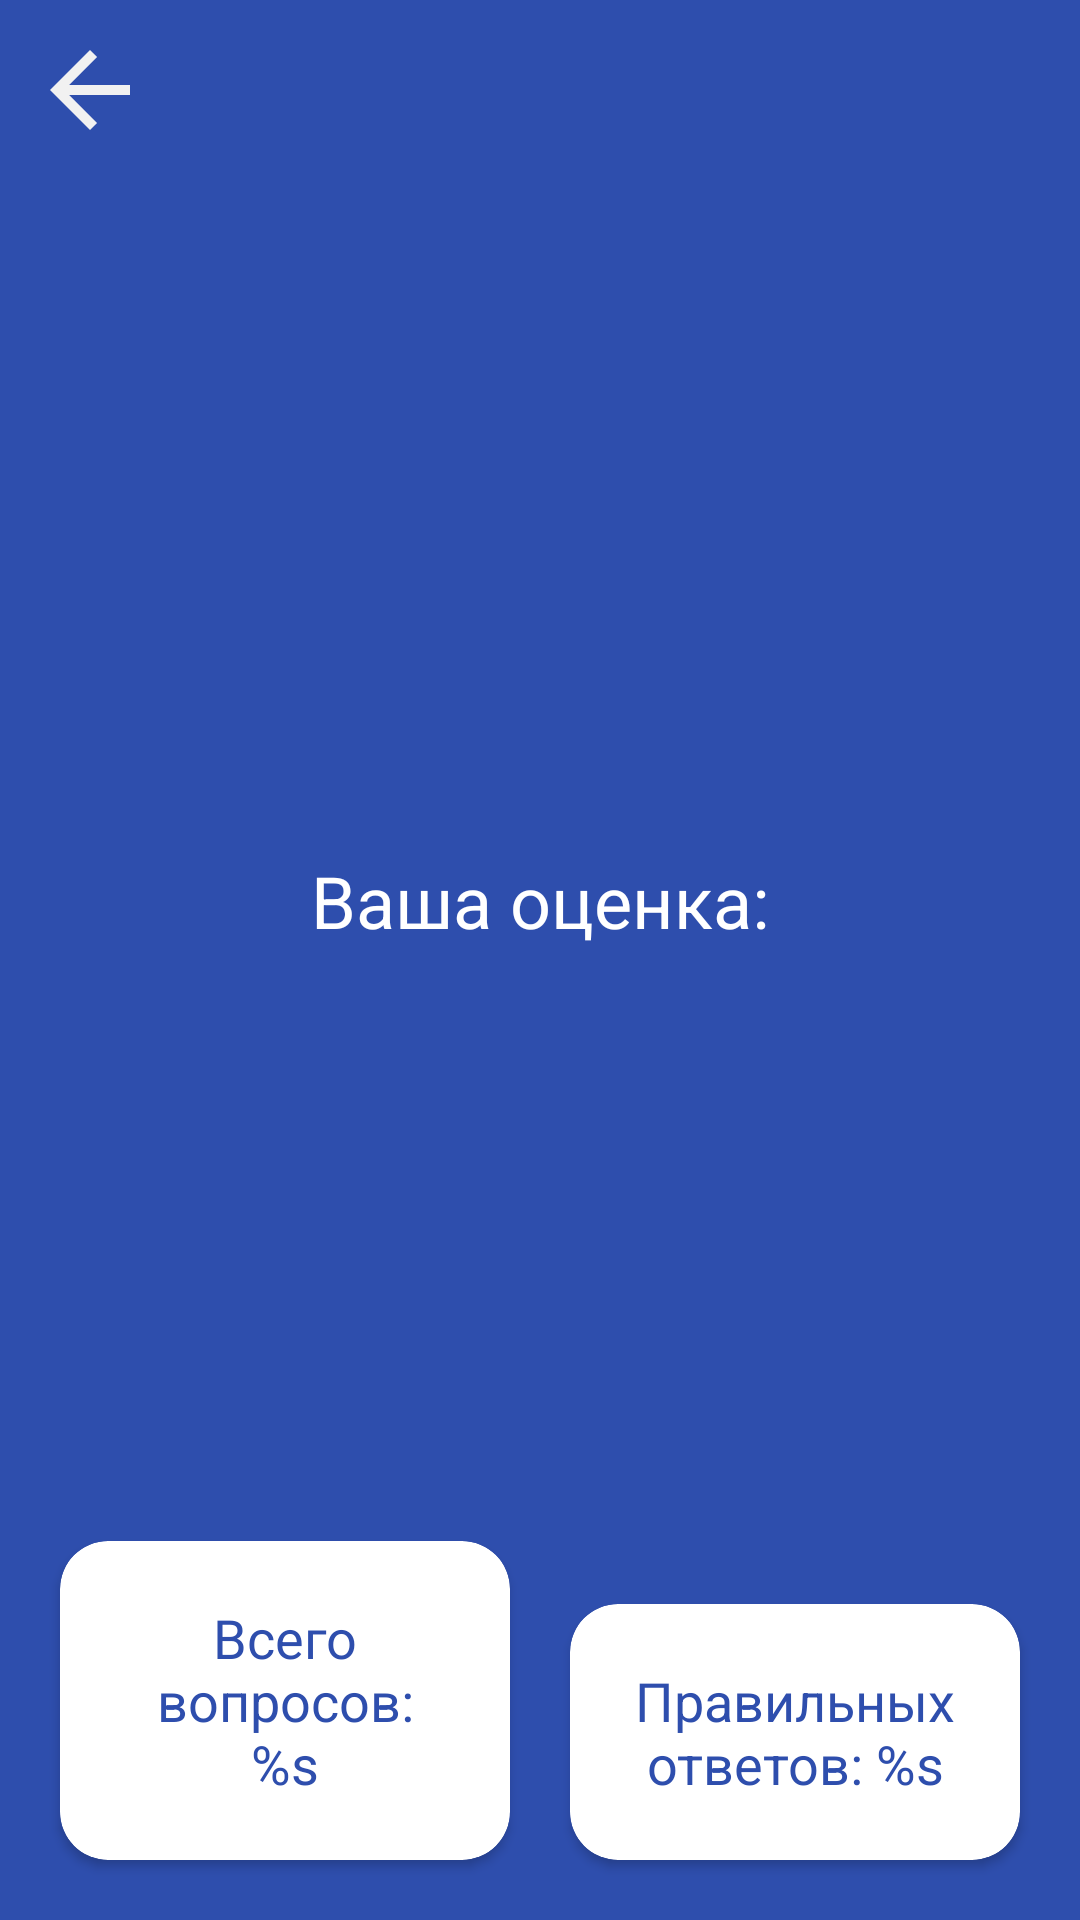

Screen size 1080w x 1920h. Icon name, then its center in pixels as [x,y]:
back arrow: [90,90]
